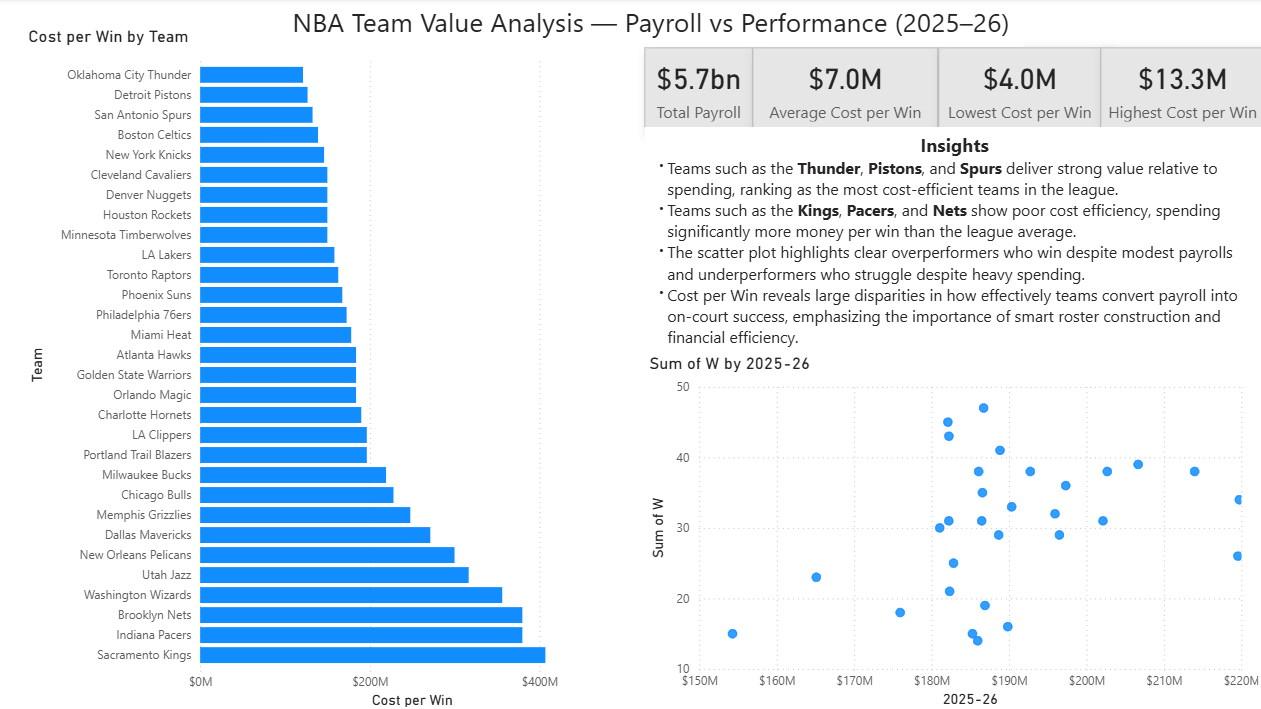

The page's visual inventory and layout, read from the dashboard file:
{"tool":"powerbi","page":{"name":"Page 1","canvas":[1280,720],"ordinal":0},"visuals":[{"type":"clusteredBarChart","fields":{"Y":["TeamStats.Cost per Win"],"Category":["TeamStats.Team"]},"box":[26.4,28.3,630.2,692.5],"z":0},{"type":"scatterChart","fields":{"Y":["Sum(TeamStats.W)"],"X":["TeamPayroll.2025-26"]},"box":[652.7,359.5,626.1,361.1],"z":1000},{"type":"card","fields":{"Values":["TeamPayroll.Total Payroll"]},"box":[652.7,49.7,109.3,81.2],"z":2000},{"type":"card","fields":{"Values":["TeamPayroll.Average Cost per Win"]},"box":[762,49.7,187.2,81.2],"z":3000},{"type":"card","fields":{"Values":["TeamPayroll.Lowest Cost per Win"]},"box":[949.2,49.7,164,81.2],"z":4000},{"type":"card","fields":{"Values":["TeamPayroll.Highest Cost per Win"]},"box":[1113.2,49.7,165.6,81.2],"z":5000},{"type":"textbox","box":[292.7,0,743.6,49.1],"z":6000},{"type":"textbox","box":[652.7,130.9,626.1,228.6],"z":6001}]}

Visuals, with their boxes in screenshot pixels (x1, y1, x2, y2), scaled from the page's 1280x720 canvas onto the 1261x709 screenshot:
clusteredBarChart - TeamStats.Cost per Win x TeamStats.Team: region(26, 28, 647, 708)
scatterChart - Sum(TeamStats.W) x TeamPayroll.2025-26: region(643, 354, 1260, 708)
card - TeamPayroll.Total Payroll: region(643, 49, 751, 129)
card - TeamPayroll.Average Cost per Win: region(751, 49, 935, 129)
card - TeamPayroll.Lowest Cost per Win: region(935, 49, 1097, 129)
card - TeamPayroll.Highest Cost per Win: region(1097, 49, 1260, 129)
textbox: region(288, 0, 1021, 48)
textbox: region(643, 129, 1260, 354)
